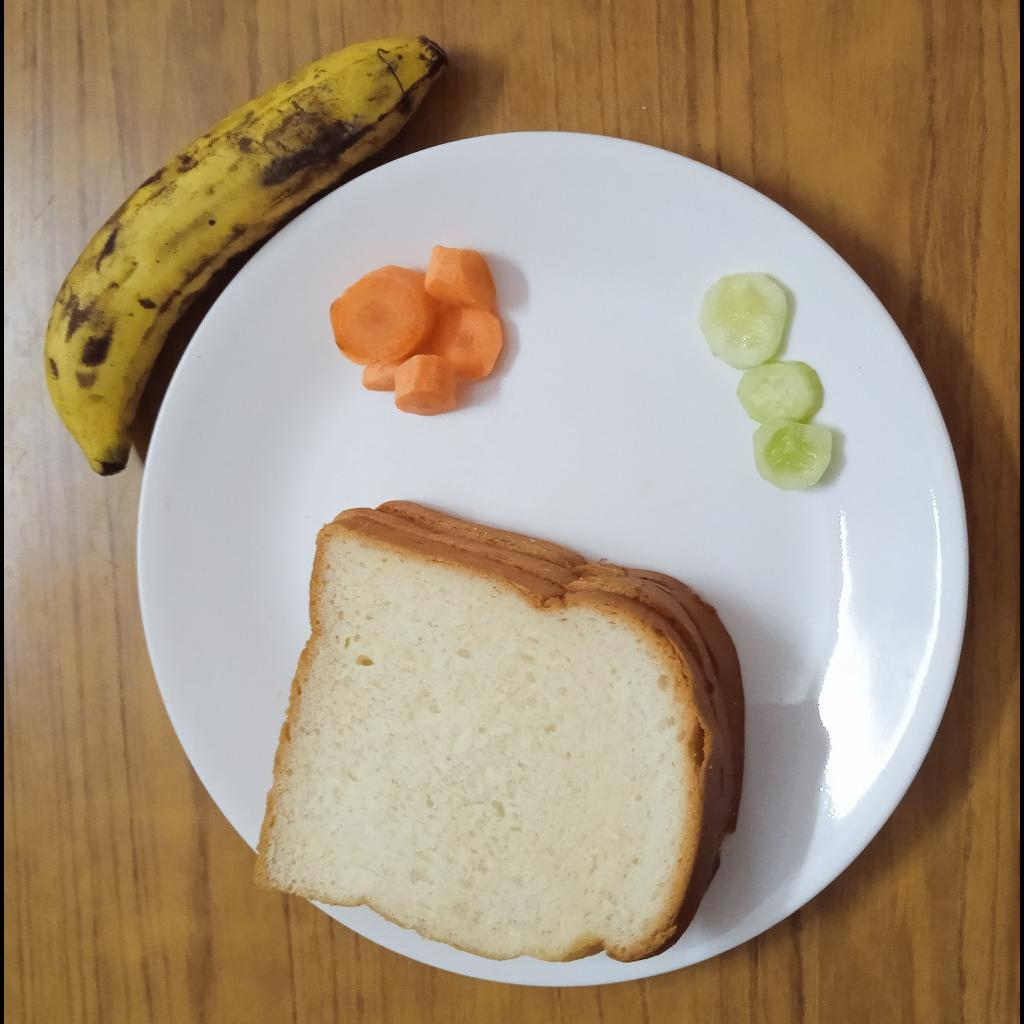banana: (40, 33, 453, 476)
bread: (247, 496, 743, 967)
carrot: (325, 243, 503, 419)
cucumber: (702, 271, 833, 494)
